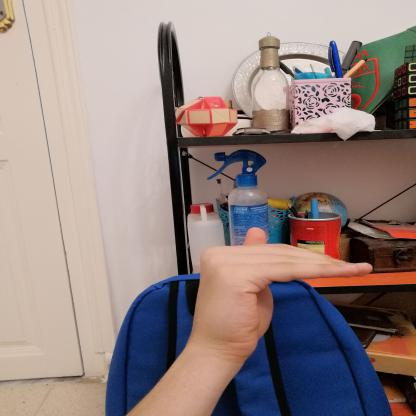KHAA: (179, 219, 384, 357)
